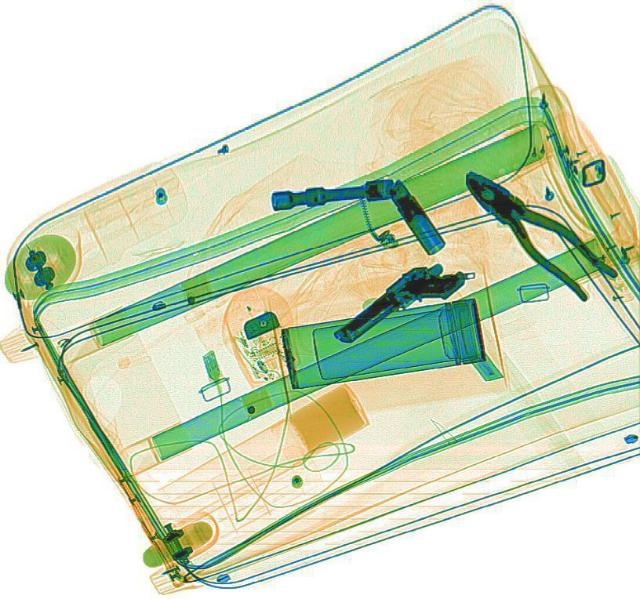Gun: (329, 244, 468, 365)
Pliers: (448, 158, 620, 301)
